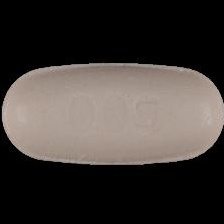42549-592: (0, 0, 224, 224)
